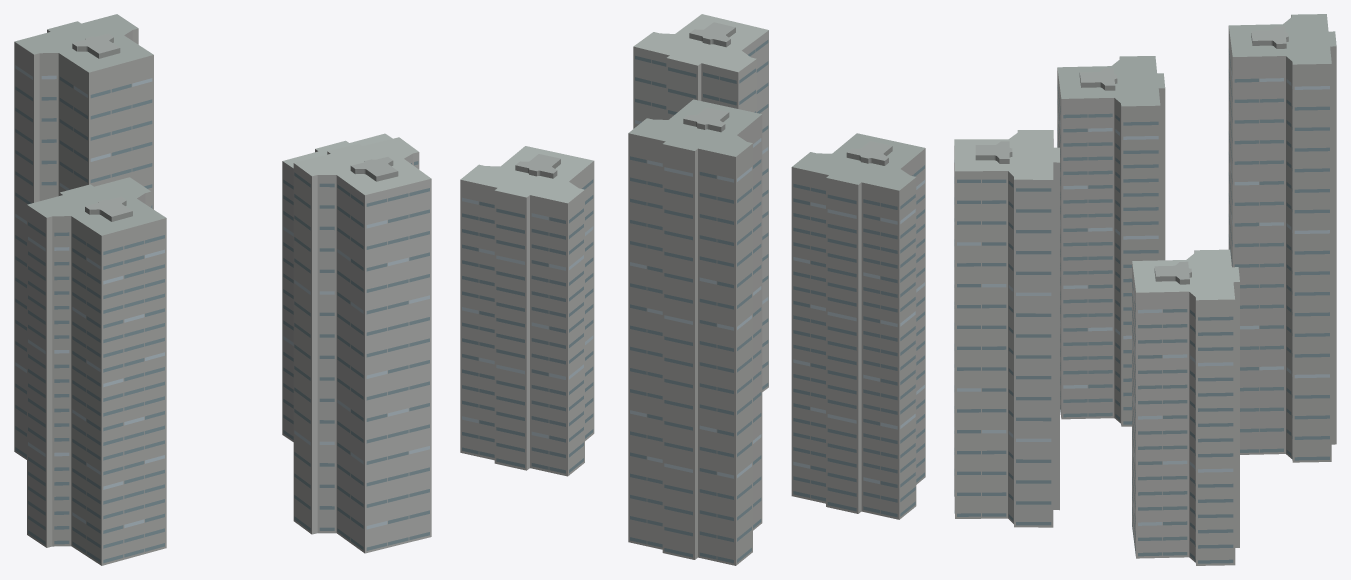
File: apt-a14319012.glb
The picture shows the model from 3 angles, left to right: view 1: azimuth 30°, elevation 25°; view 2: azimuth 150°, elevation 25°; view 3: azimuth 270°, elevation 25°; orthographic projection. The views are drawn at different scales.
Visible parts, largest first — view 1: apt-a14319012; view 2: apt-a14319012; view 3: apt-a14319012.
Part boxes in pixels (<box>): apt-a14319012: <box>14,14,431,565</box>; apt-a14319012: <box>460,14,925,565</box>; apt-a14319012: <box>954,14,1336,565</box>.
Size of the model in its own units: 194 by 192 by 165.
